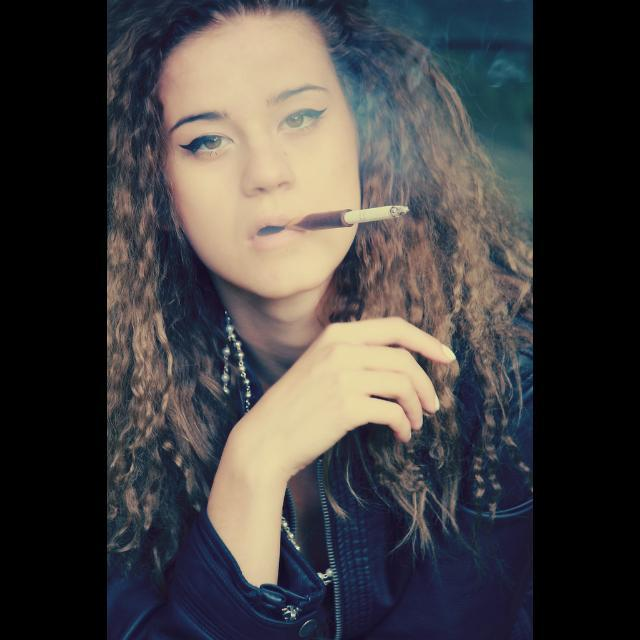rokok: (344, 201, 416, 229)
